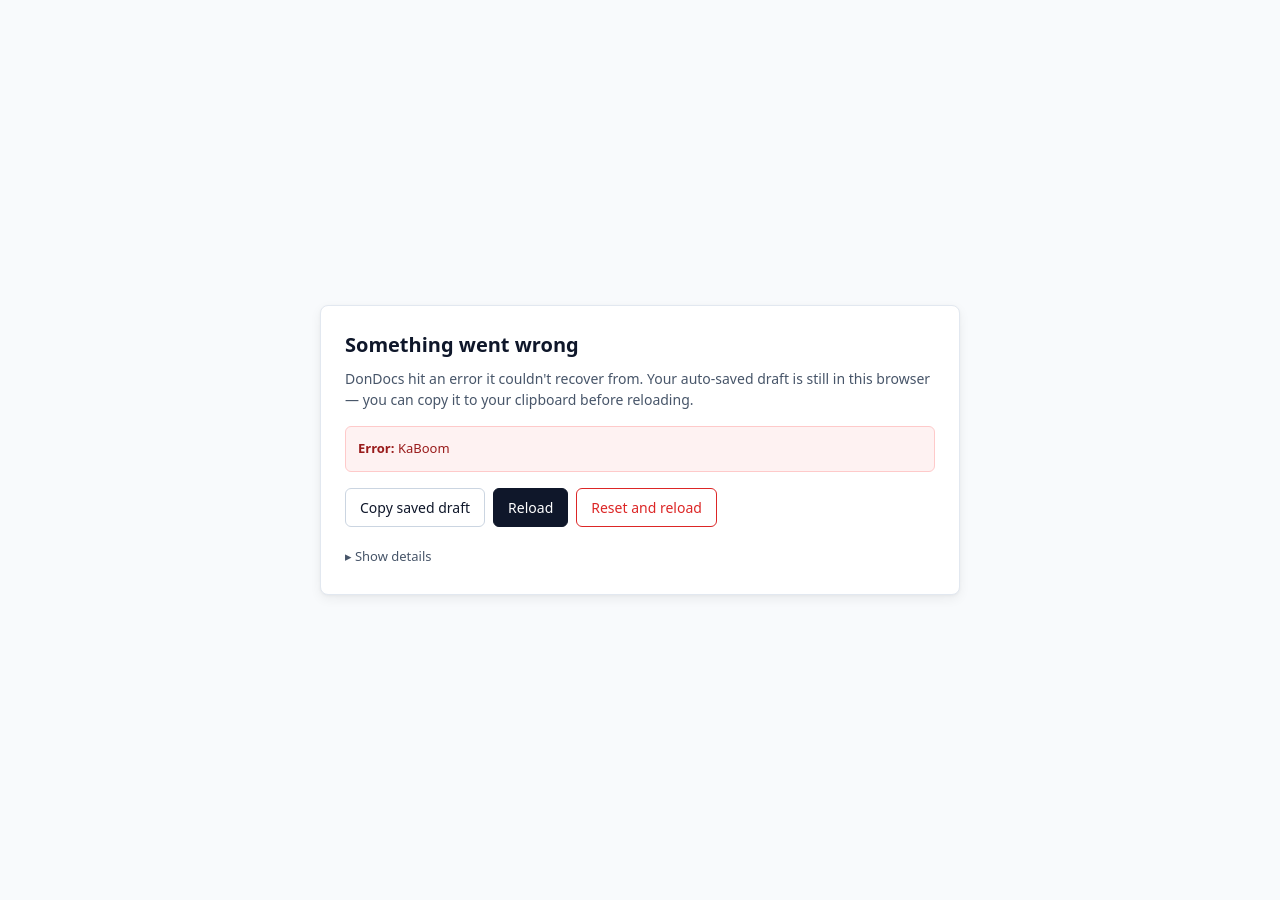
Test: ErrorBoundary › "Copy saved draft" copies the decompressed session and confirms
Click the button with aria-label "copy auto-saved session": (415, 507) top-left (345, 488), bottom-right (485, 526)
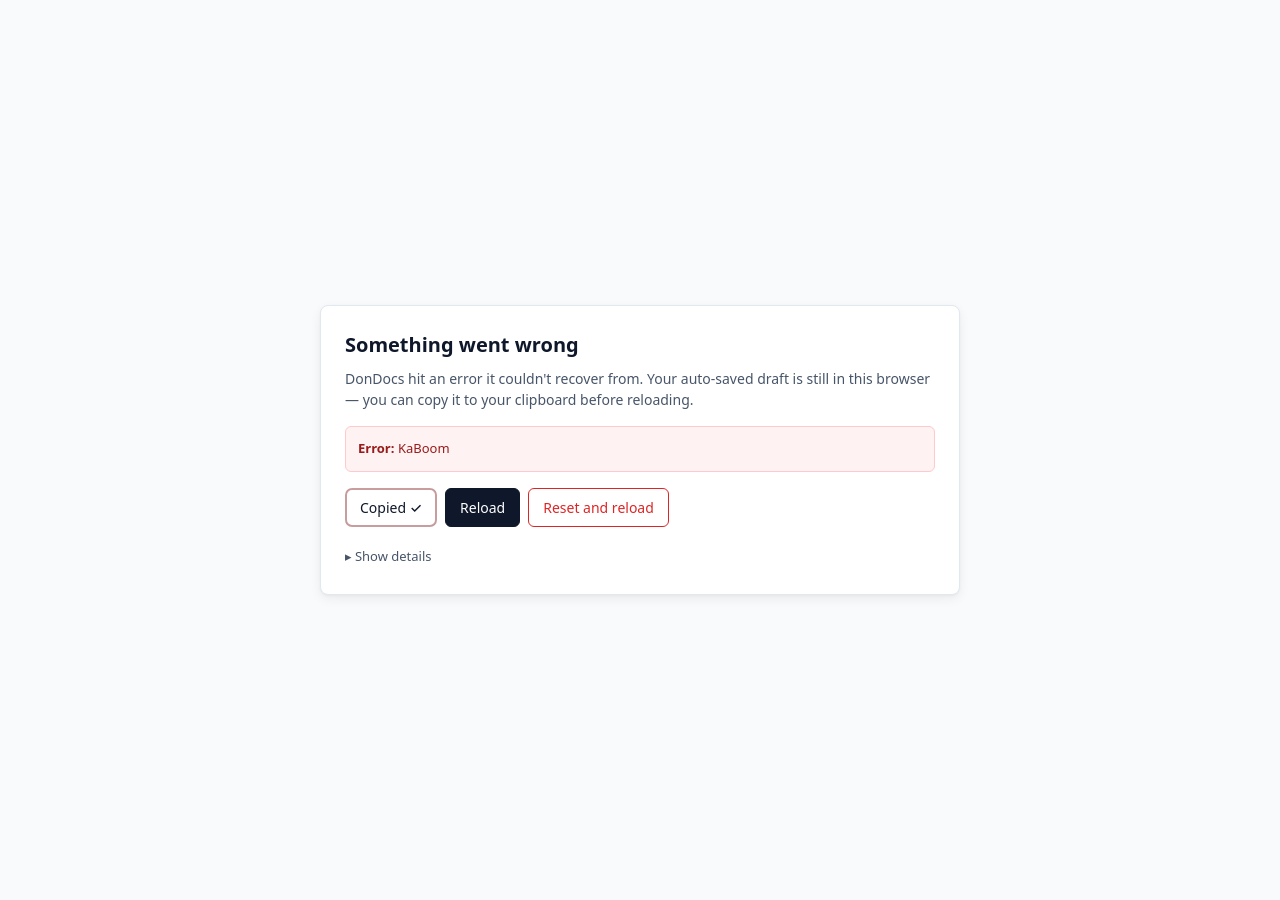
Now the button "Copied ✓" is shown, box top-left (345, 488), bottom-right (437, 526)
